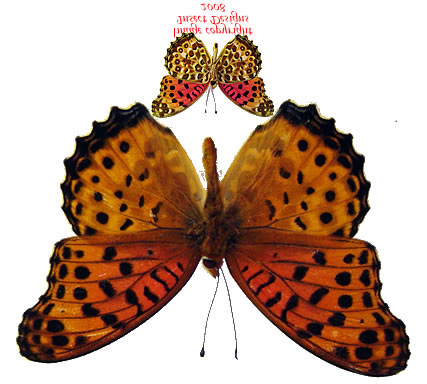Argyreus hyperbius: (11, 99, 411, 376), (150, 32, 277, 123)
butterfly: (13, 100, 413, 377), (148, 30, 275, 121)
